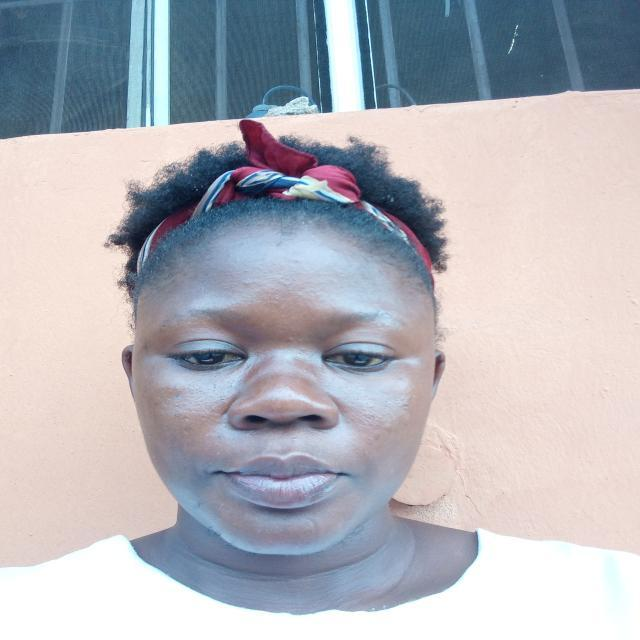acne: (258, 264, 316, 312), (282, 334, 308, 354), (238, 277, 252, 288), (138, 342, 148, 353), (212, 433, 223, 441)
pores: (158, 382, 226, 422), (342, 388, 375, 428), (380, 396, 410, 410), (224, 378, 244, 396)
